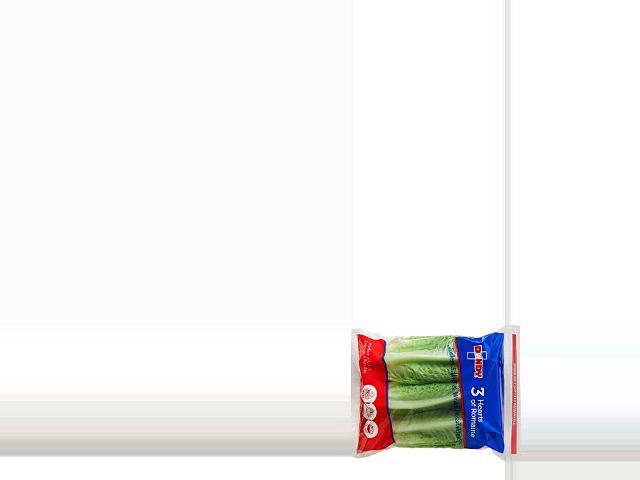lettuce: (350, 331, 507, 454)
